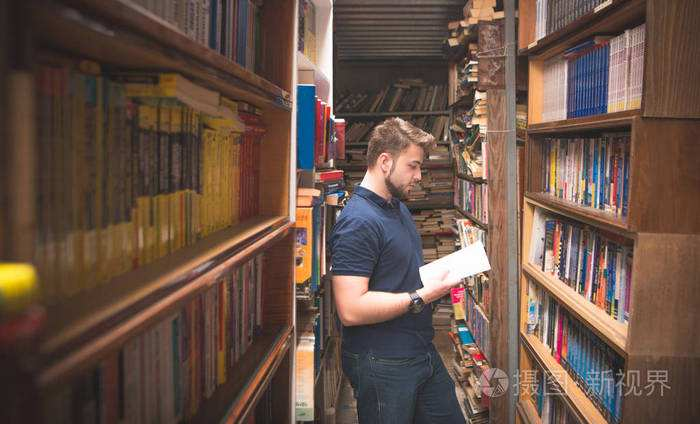book: (401, 236, 493, 313)
